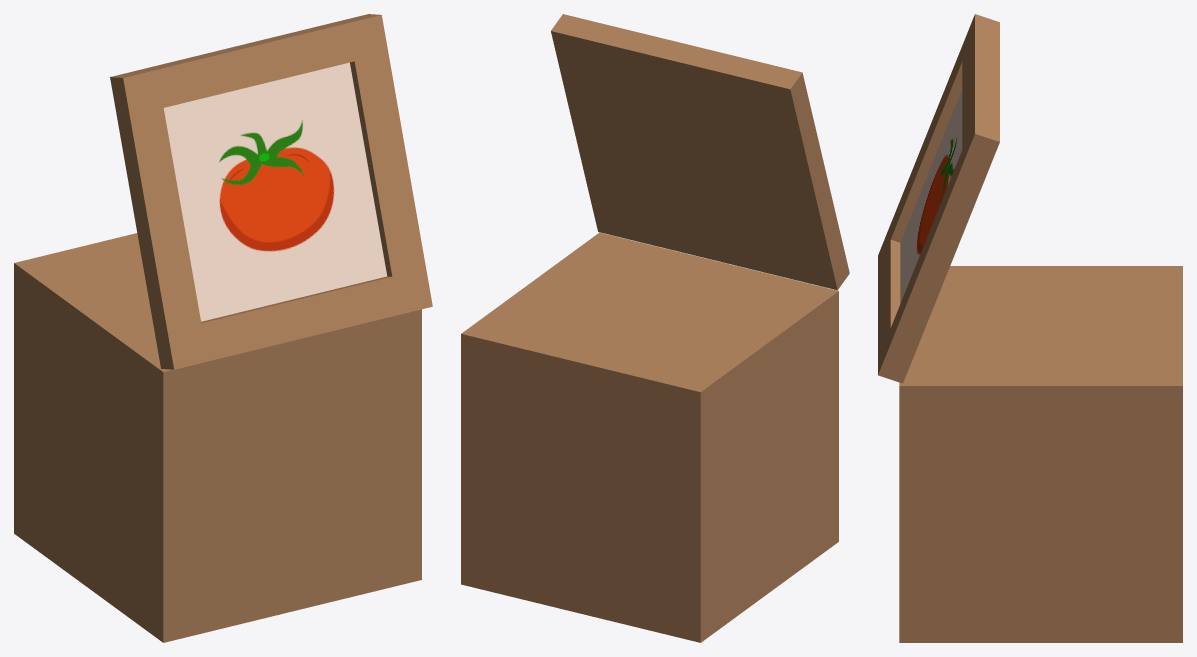
Rendered from tomato closing.fbx.
3 renders of one model, left to right at view 1: azimuth 30°, elevation 25°; view 2: azimuth 150°, elevation 25°; view 3: azimuth 270°, elevation 25°, orthographic. The views are drawn at different scales.
Visible parts, largest first — view 1: Cube, Cube.001; view 2: Cube, Cube.001; view 3: Cube, Cube.001.
Boxes of the visible parts, <box> form: Cube: <box>14,233,421,642</box>; Cube.001: <box>110,14,432,369</box>; Cube: <box>461,232,838,642</box>; Cube.001: <box>551,14,849,290</box>; Cube: <box>899,266,1182,642</box>; Cube.001: <box>878,14,999,383</box>.
Bounding box in the file's own units: 200 × 396 × 215.
